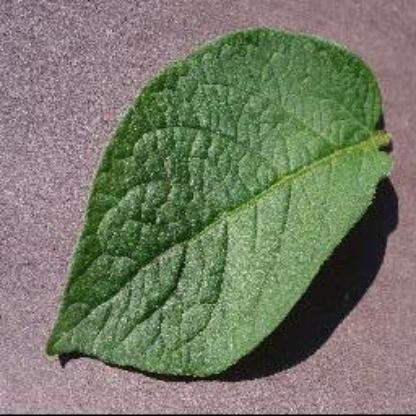Healthy-plant: (45, 25, 397, 377)
